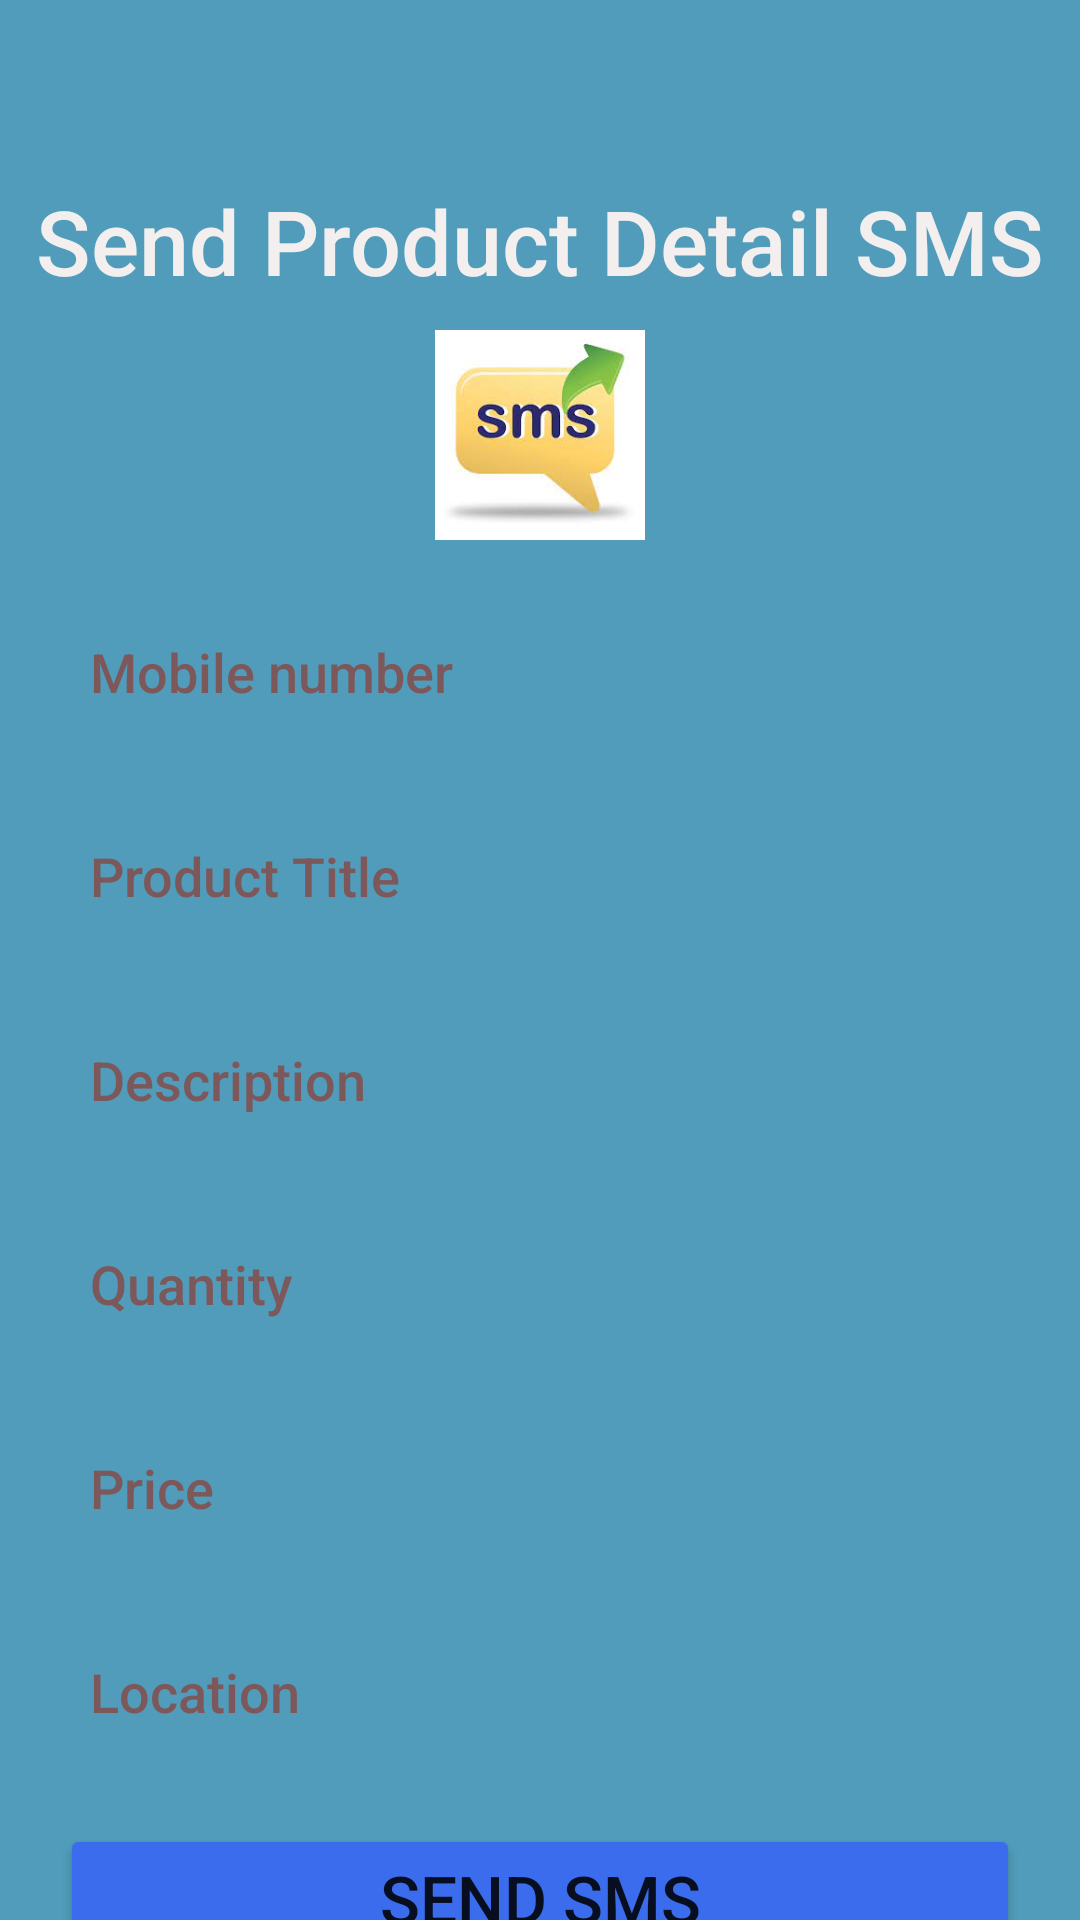

Screen size 1080×1920. Icon name, then its box in pixels as (x1, y1, x2, y2):
sendsmsimage: (435, 330, 645, 540)
